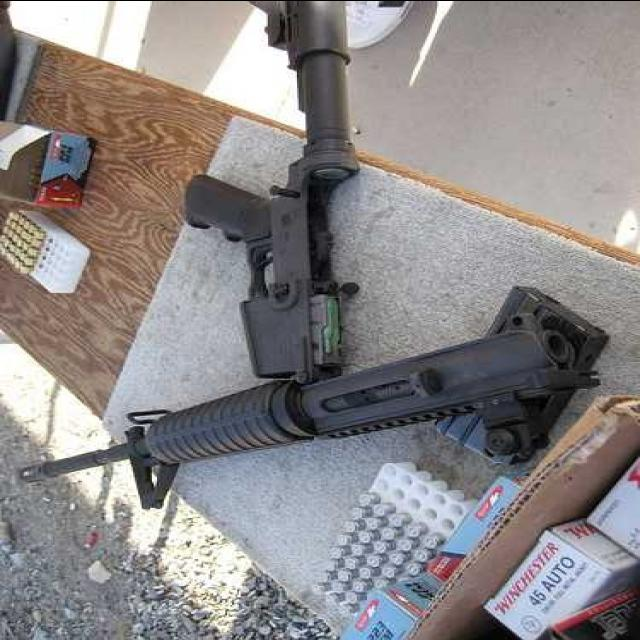heavyweapon: (23, 249, 607, 518), (148, 1, 380, 381)
